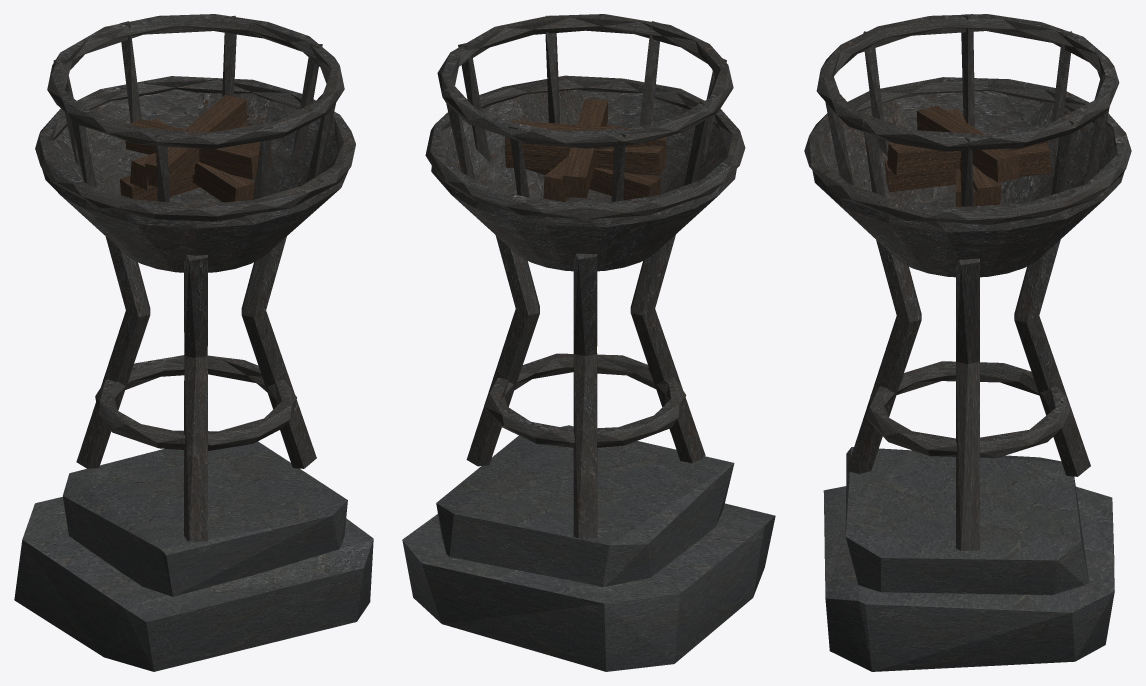
File: barrosan_watch_brazier_lod1.glb
The picture shows the model from 3 angles, left to right: view 1: azimuth 30°, elevation 25°; view 2: azimuth 150°, elevation 25°; view 3: azimuth 270°, elevation 25°; orthographic projection. The views are drawn at different scales.
Parts seen in each view (by area): view 1: barrosan_watch_brazier; view 2: barrosan_watch_brazier; view 3: barrosan_watch_brazier.
Part boxes in pixels (bbox=[...]): barrosan_watch_brazier: bbox=[14, 14, 373, 671]; barrosan_watch_brazier: bbox=[402, 14, 775, 671]; barrosan_watch_brazier: bbox=[804, 14, 1131, 671].
Bounding box in the file's own units: 0.826 × 1.49 × 0.826.
3 materials, 3 textured.
